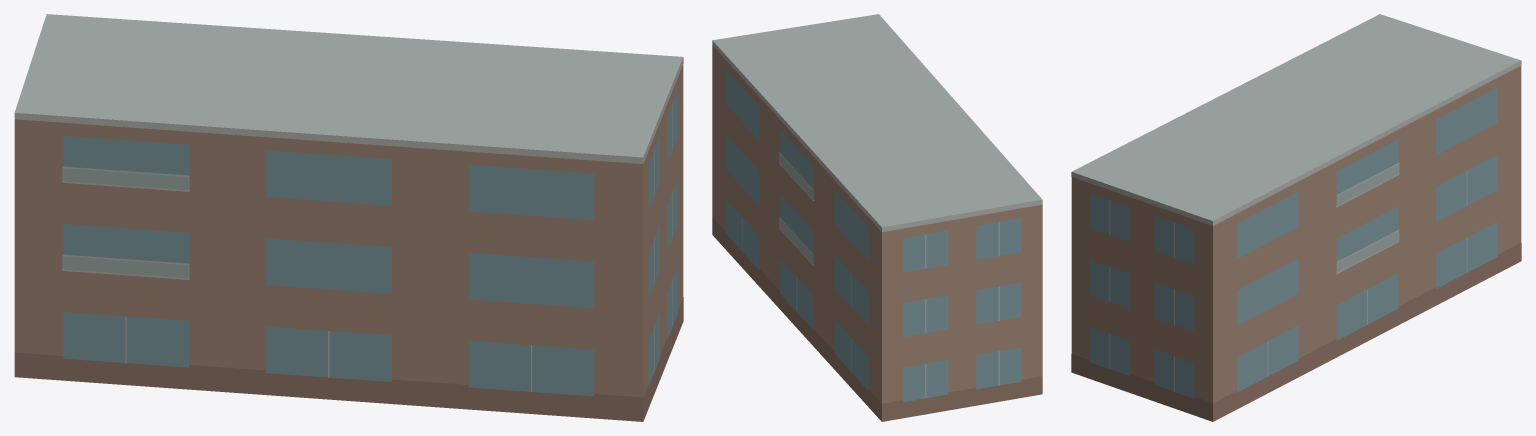
The model's file is survey-upis-32672181.glb.
The picture shows the model from 3 angles, left to right: view 1: azimuth 30°, elevation 25°; view 2: azimuth 150°, elevation 25°; view 3: azimuth 270°, elevation 25°; orthographic projection. The views are drawn at different scales.
Parts seen in each view (by area): view 1: survey-upis-32672181.tmp; view 2: survey-upis-32672181.tmp; view 3: survey-upis-32672181.tmp.
Part boxes in pixels (x1,y1,x2,y2): survey-upis-32672181.tmp: [14, 14, 683, 421]; survey-upis-32672181.tmp: [712, 14, 1042, 421]; survey-upis-32672181.tmp: [1071, 14, 1521, 421].
Size of the model in its own units: 21.92 by 9.9 by 20.12.
